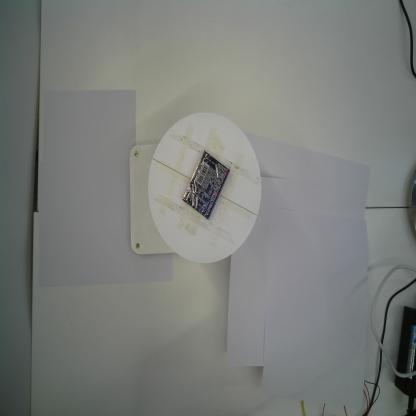Gum: (182, 149, 232, 222)
